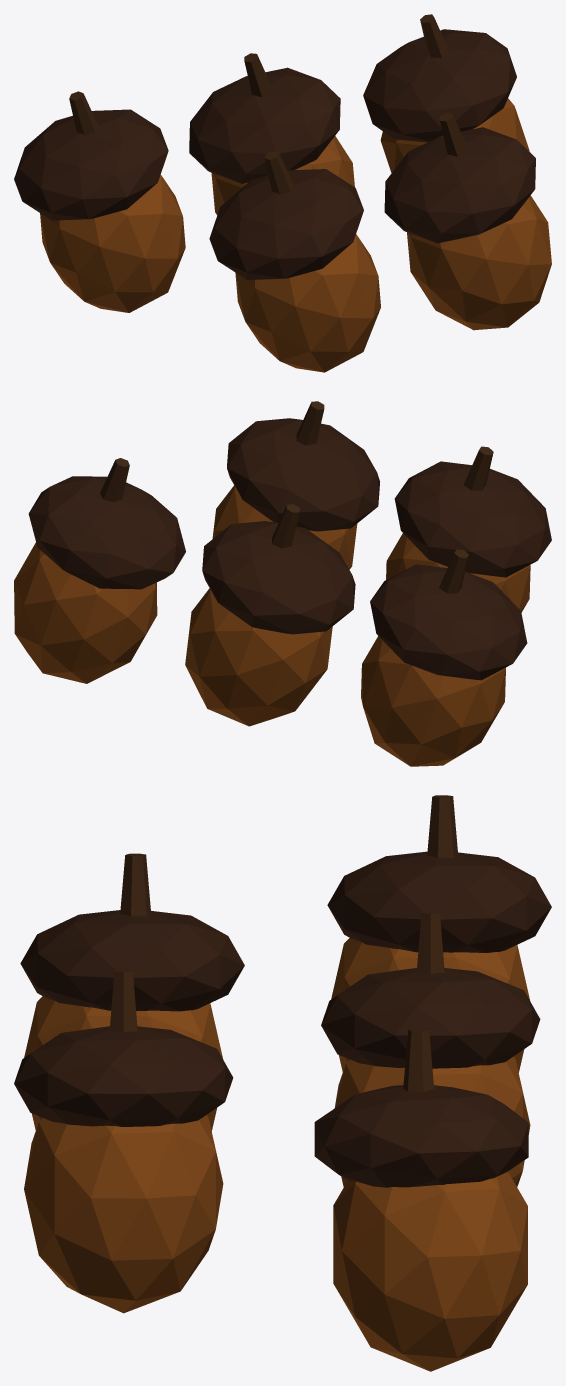
The model's file is pile-treeSeed-5.obj.
The picture shows the model from 3 angles, top to bottom: view 1: azimuth 30°, elevation 25°; view 2: azimuth 150°, elevation 25°; view 3: azimuth 270°, elevation 25°; orthographic projection. The views are drawn at different scales.
Parts seen in each view (by area): view 1: pile-treeSeed-5; view 2: pile-treeSeed-5; view 3: pile-treeSeed-5.
Boxes of the visible parts, left/top/right/bottom form: pile-treeSeed-5: left=14, top=14, right=551, bottom=372; pile-treeSeed-5: left=14, top=401, right=551, bottom=766; pile-treeSeed-5: left=14, top=795, right=551, bottom=1371.
Bounding box in the file's own units: 0.7737 × 0.3302 × 0.5257.
Materials: 1 (1 with a texture image).
